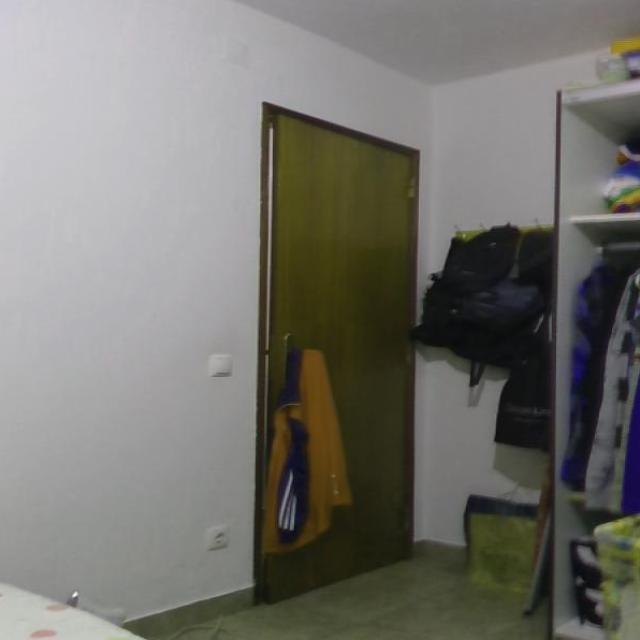door: (254, 100, 419, 604)
